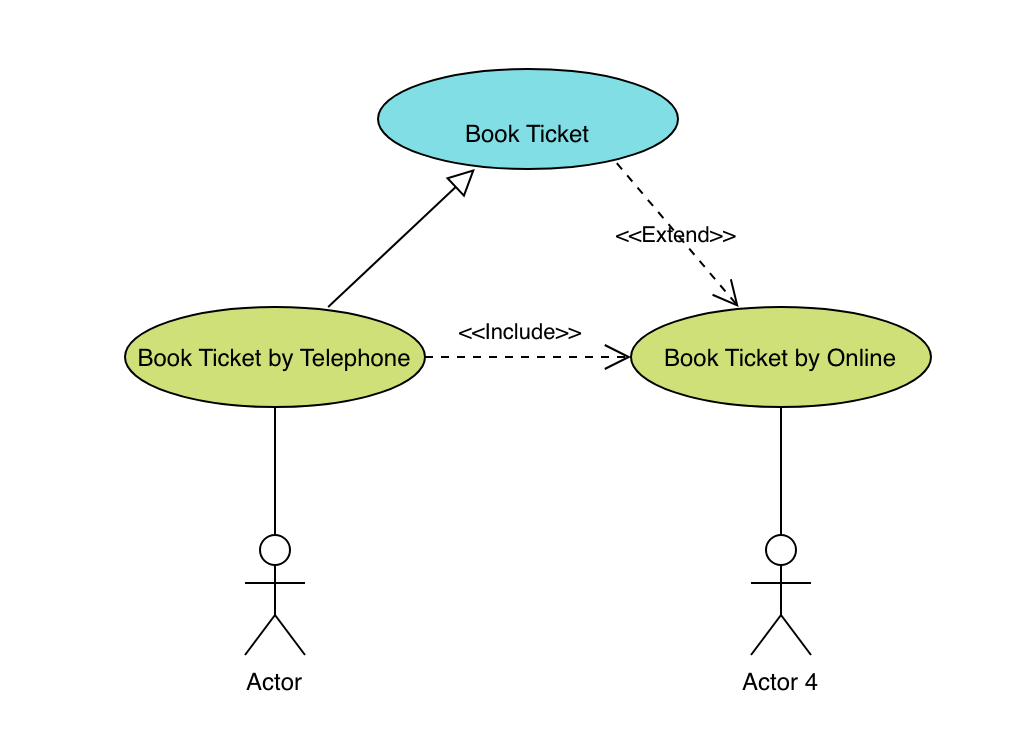actor: (744, 534, 817, 659), (247, 533, 306, 660)
association: (612, 160, 738, 307), (427, 339, 632, 370), (264, 406, 286, 535), (772, 408, 790, 534)
generalization: (327, 168, 475, 305)
text: (136, 343, 412, 374), (655, 344, 899, 376), (445, 310, 583, 350), (439, 120, 604, 149), (611, 223, 736, 249), (738, 667, 821, 698), (247, 668, 312, 698)
use_case: (375, 67, 681, 172), (124, 305, 427, 409), (628, 305, 931, 409)
